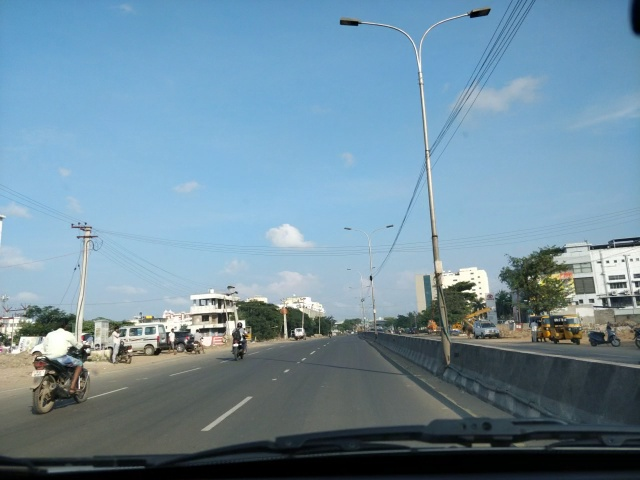auto: (545, 311, 579, 346), (525, 315, 548, 341)
car: (111, 325, 171, 357), (470, 317, 504, 341), (291, 325, 308, 342)
motorbike: (29, 319, 97, 415), (104, 322, 133, 365), (588, 323, 624, 349), (231, 321, 250, 364), (177, 333, 206, 355)
